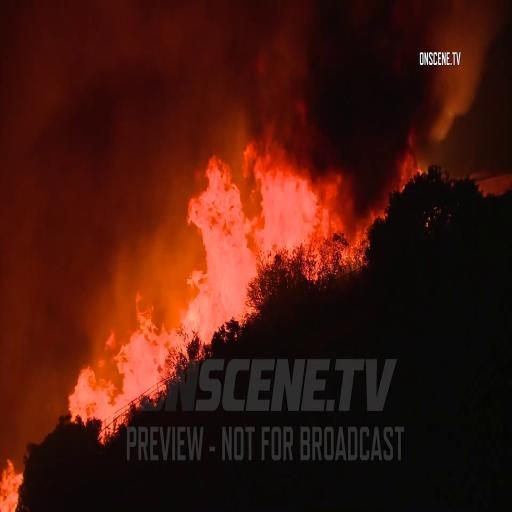fire: (187, 144, 254, 318), (256, 150, 319, 268), (119, 294, 165, 394), (68, 365, 114, 427)
